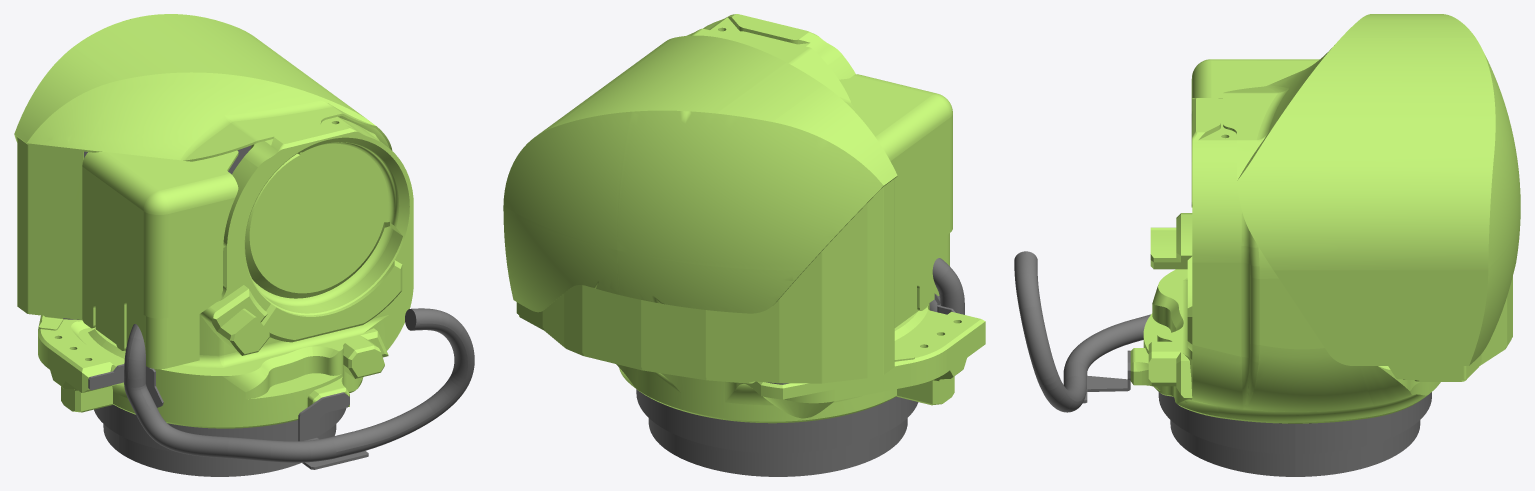
3 views of the same model, side by side, from view 1: azimuth 30°, elevation 25°; view 2: azimuth 150°, elevation 25°; view 3: azimuth 270°, elevation 25° (orthographic). The views are drawn at different scales.
Parts seen in each view (by area): view 1: Mesh_0; view 2: Mesh_0; view 3: Mesh_0.
Boxes of the visible parts, x1,y1,x2,y2 form: Mesh_0: (14, 14, 474, 476); Mesh_0: (503, 14, 985, 476); Mesh_0: (1014, 14, 1520, 476).
Size of the model in its own units: 0.4035 by 0.5169 by 0.428.
